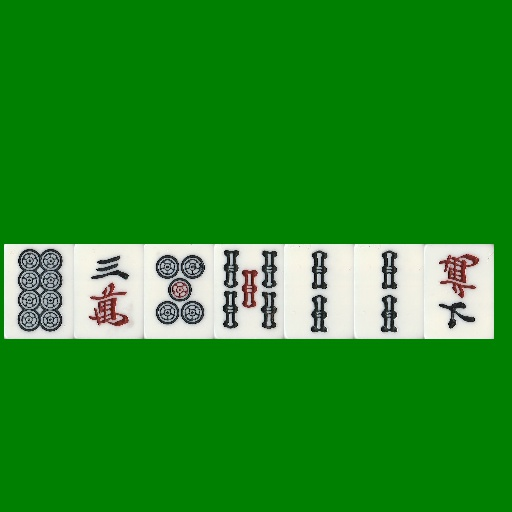2s: (284, 244, 354, 339), (354, 244, 424, 339)
3m: (74, 244, 144, 339)
5p: (144, 244, 214, 339)
5s: (214, 244, 284, 339)
7m: (424, 244, 494, 339)
8p: (4, 244, 74, 339)
